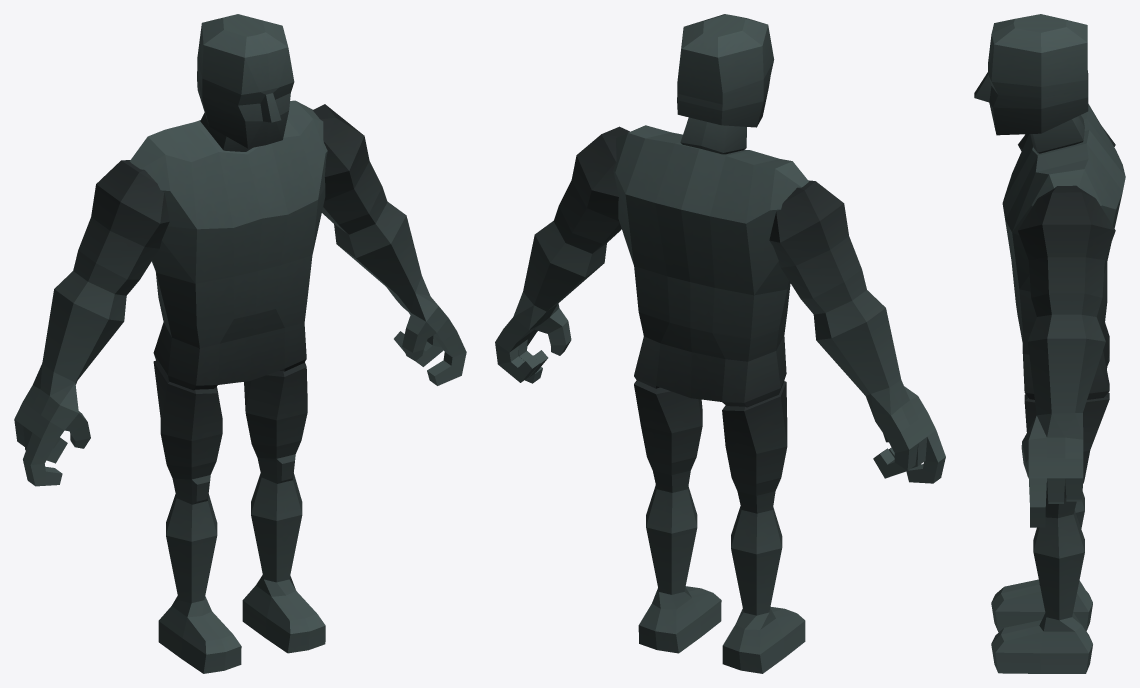
Rendered from dummy_002.fbx.
The picture shows the model from 3 angles, left to right: view 1: azimuth 30°, elevation 25°; view 2: azimuth 150°, elevation 25°; view 3: azimuth 270°, elevation 25°; orthographic projection.
Parts seen in each view (by area): view 1: dummy.002; view 2: dummy.002; view 3: dummy.002.
Boxes of the visible parts, x1=… form: dummy.002: x1=14, y1=14, x2=466, y2=673; dummy.002: x1=495, y1=14, x2=945, y2=673; dummy.002: x1=974, y1=14, x2=1125, y2=673.
Bounding box in the file's own units: 371 × 503 × 111.
